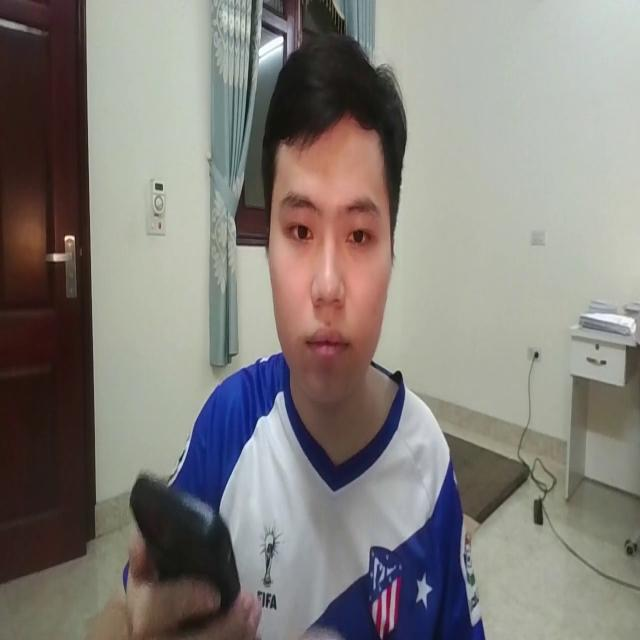phone: (108, 455, 274, 640)
student: (97, 34, 497, 640)
